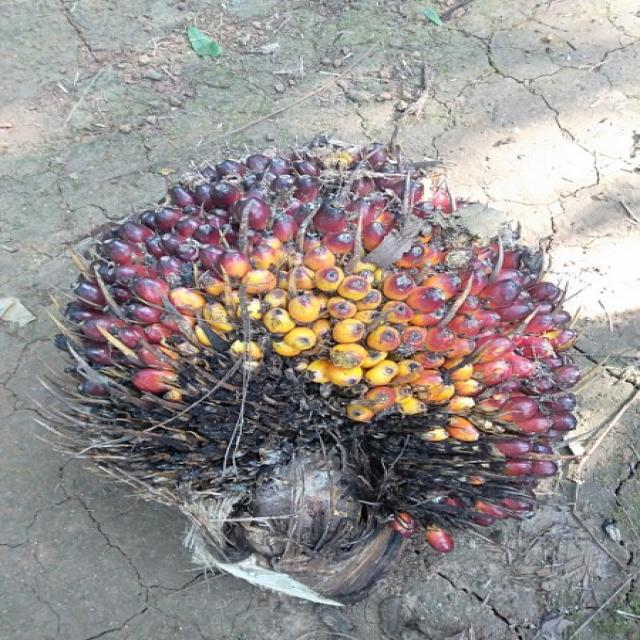fraksi 1: (45, 95, 608, 612)
